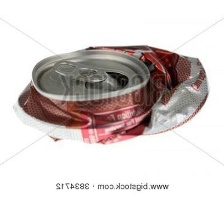can: (8, 41, 211, 153)
